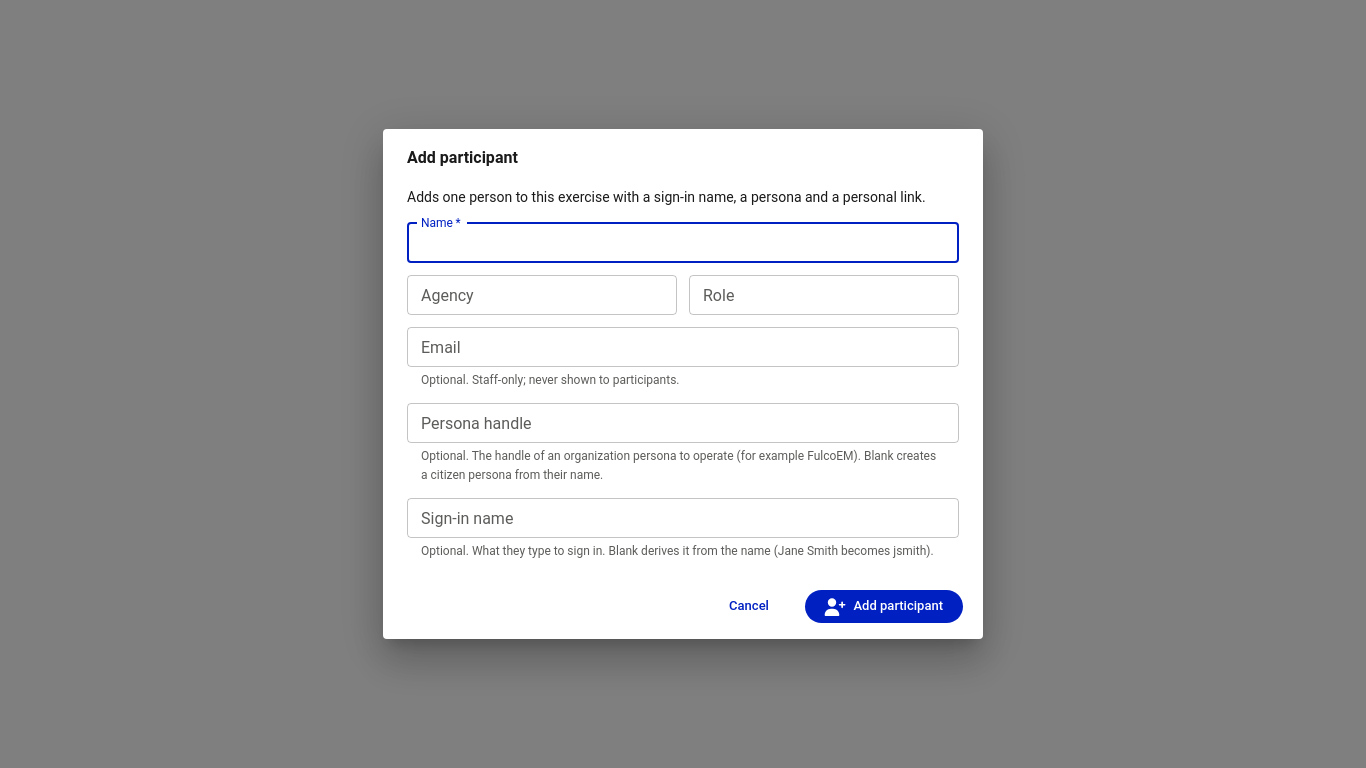
AddParticipantDialog — validation before sending › an empty name is refused client-side: nothing is sent, the field is invalid and focused
Expected: the dialog "Add participant" is shown, [383,129,983,639]
Click the button "Add participant".
click(884, 607)  # box [805,590,963,623]
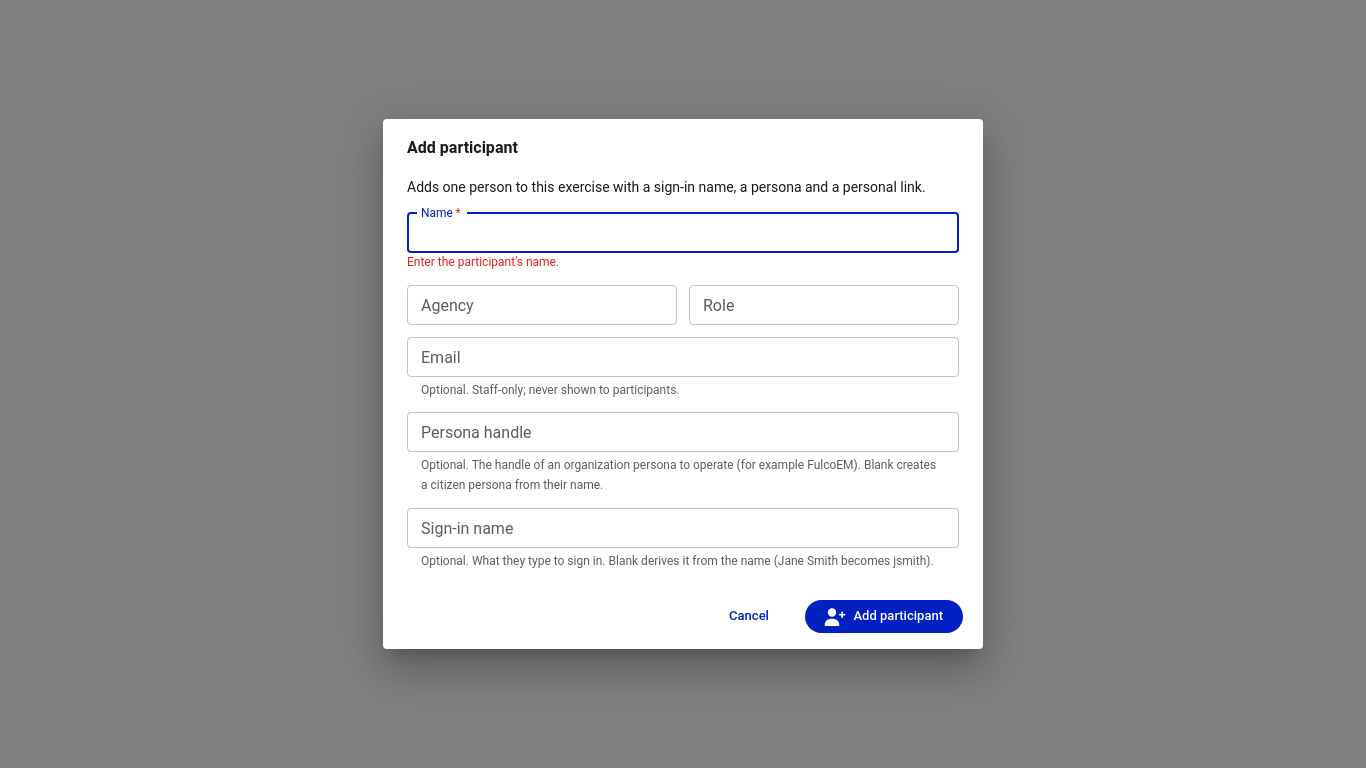
Expected: the text "Enter the participant's name." is shown, [407,255,559,269]
